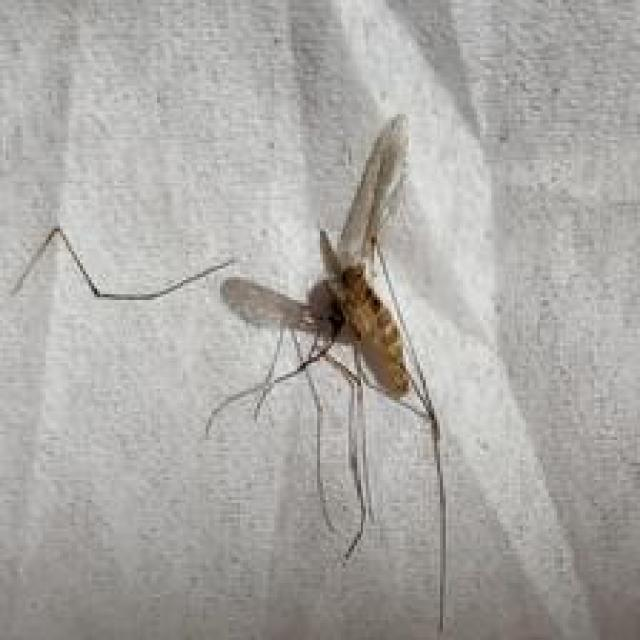Culex: (10, 111, 453, 634)
